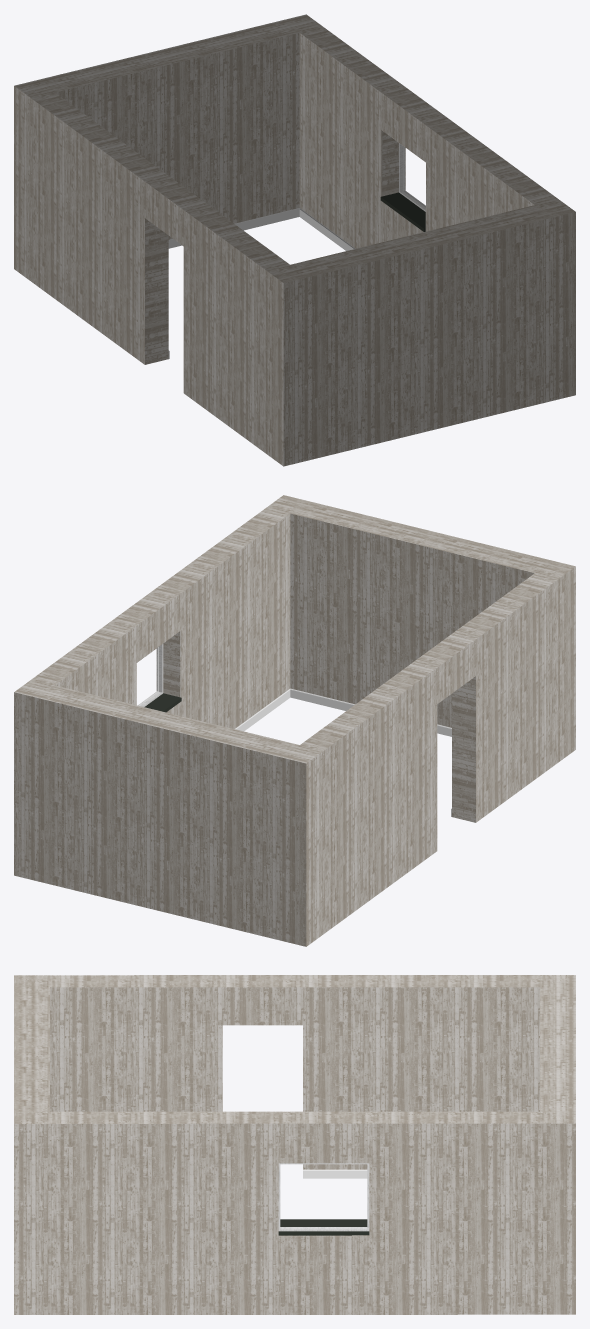
Rendered from Wall_553b8e02.obj.
3 renders of one model, top to bottom at view 1: azimuth 30°, elevation 25°; view 2: azimuth 150°, elevation 25°; view 3: azimuth 270°, elevation 25°, orthographic. The views are drawn at different scales.
Visible parts, largest first — view 1: Wall_553b8e02; view 2: Wall_553b8e02; view 3: Wall_553b8e02.
Part boxes in pixels (<box>): Wall_553b8e02: <box>14,14,575,466</box>; Wall_553b8e02: <box>14,495,575,946</box>; Wall_553b8e02: <box>14,975,575,1314</box>.
Size of the model in its own units: 4.37 by 2.62 by 6.98.
